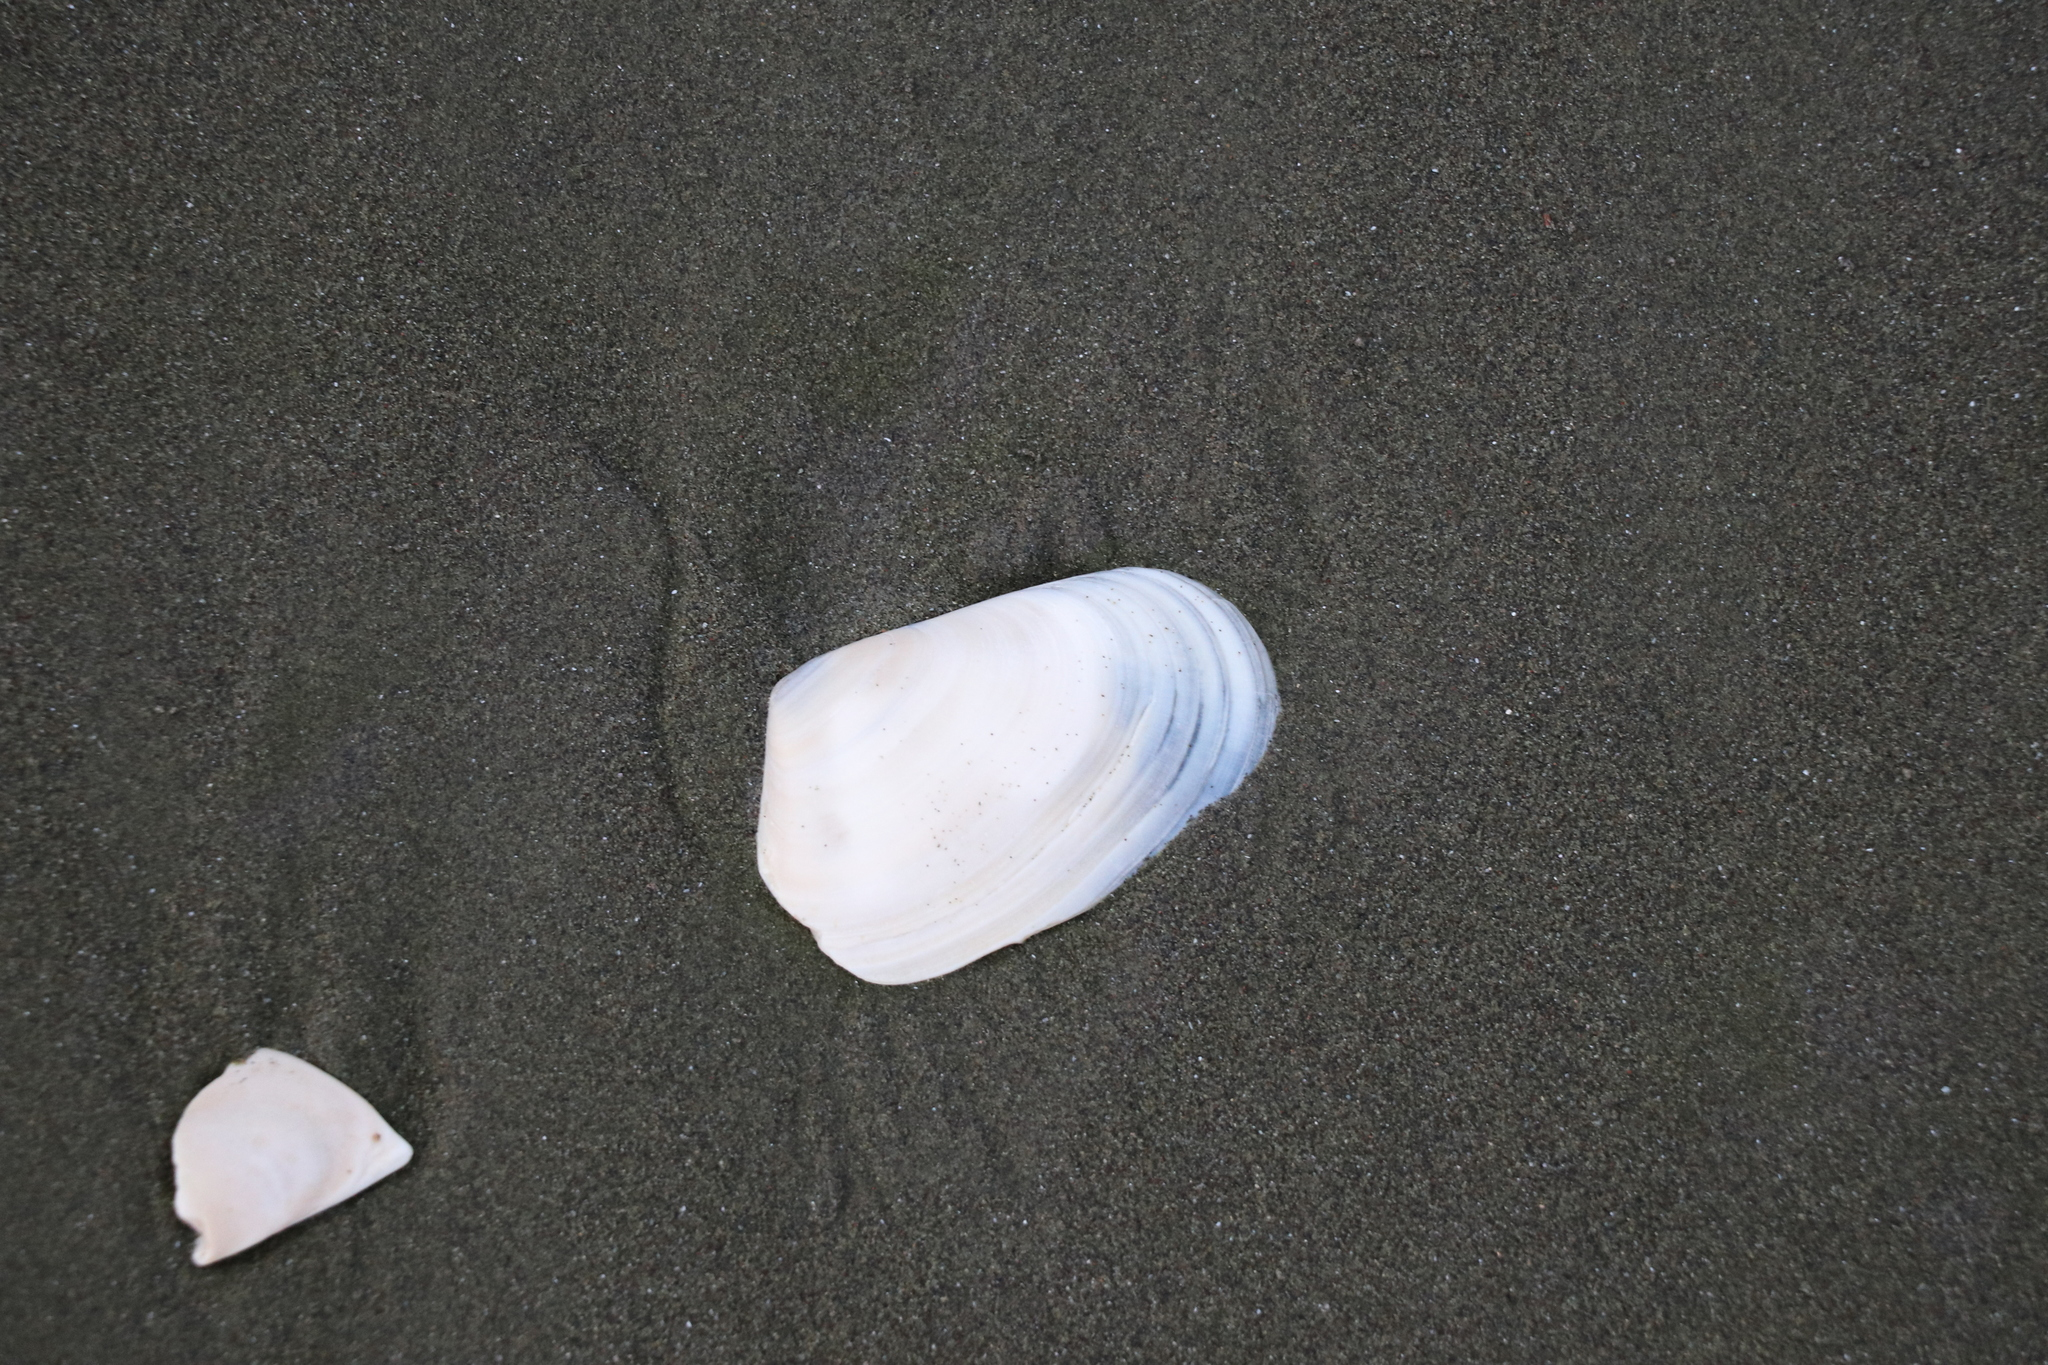tuatua: (751, 564, 1313, 983)
